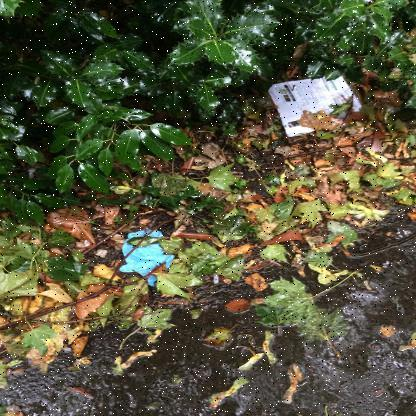cardboard: (268, 72, 362, 138)
plastic: (119, 229, 174, 287)
